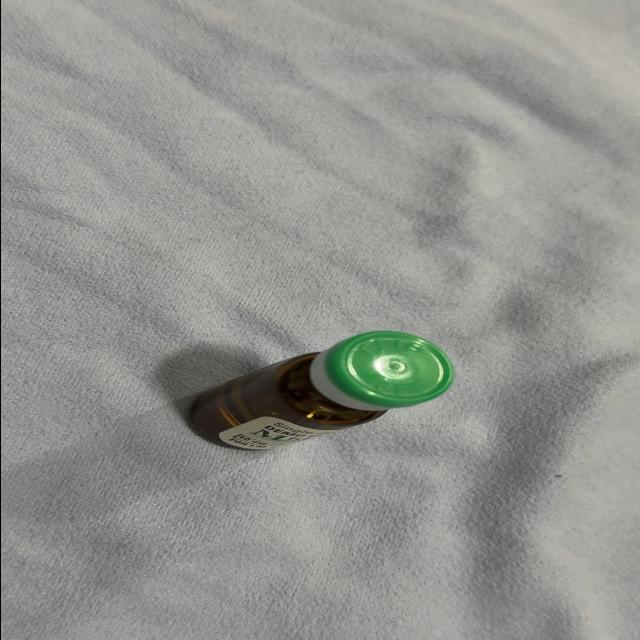midazolm: (193, 332, 449, 448)
